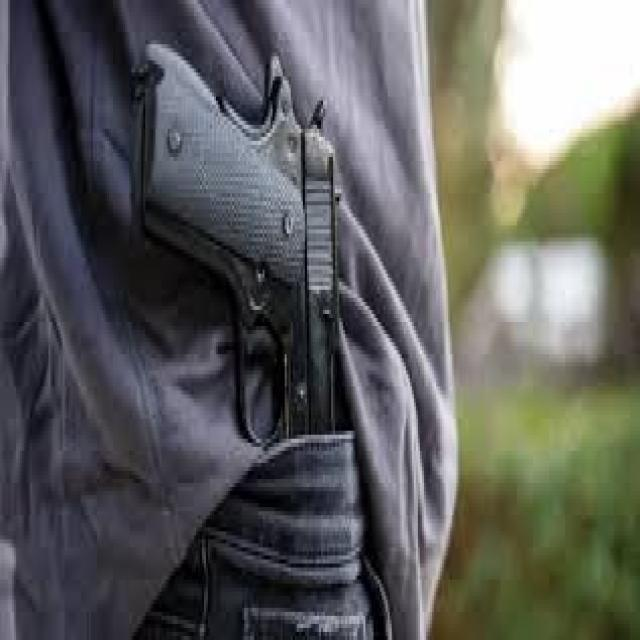gun: (123, 28, 446, 561)
